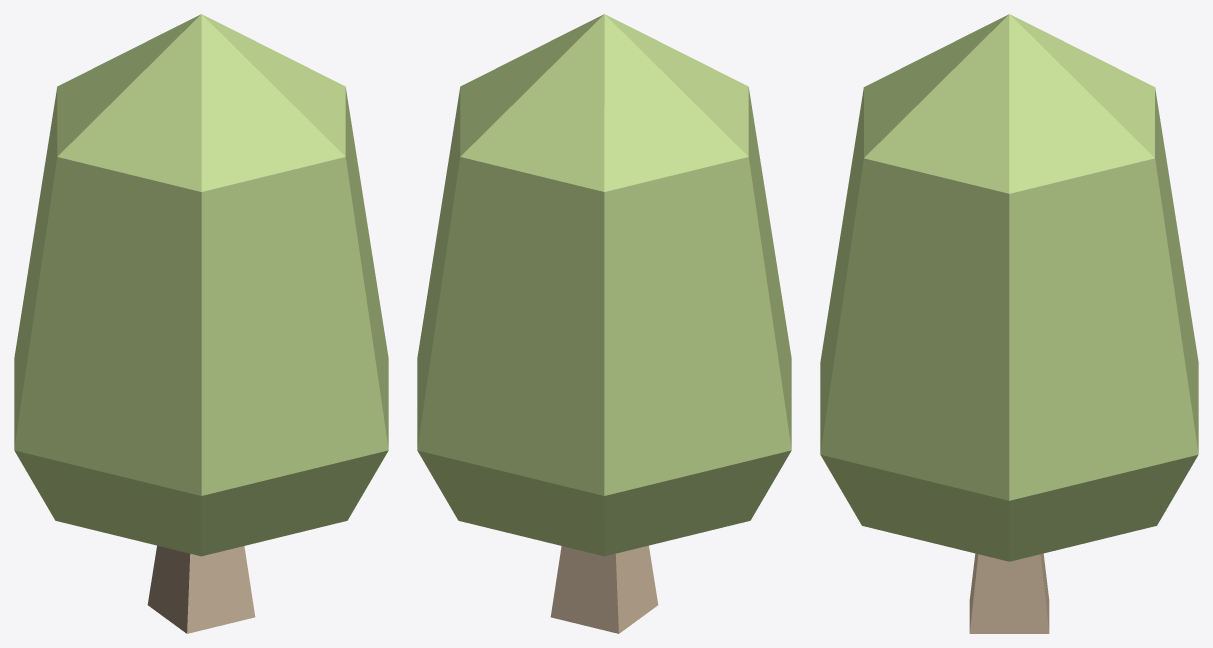
File: roadTile_020.gltf
The picture shows the model from 3 angles, left to right: view 1: azimuth 30°, elevation 25°; view 2: azimuth 150°, elevation 25°; view 3: azimuth 270°, elevation 25°; orthographic projection.
Visible parts, largest first — view 1: roadTile_020; view 2: roadTile_020; view 3: roadTile_020.
Part boxes in pixels (left/top/right/bottom): roadTile_020: left=14, top=14, right=388, bottom=633; roadTile_020: left=417, top=14, right=791, bottom=633; roadTile_020: left=820, top=14, right=1198, bottom=633.
Size of the model in its own units: 1.72 by 2.62 by 1.49.
